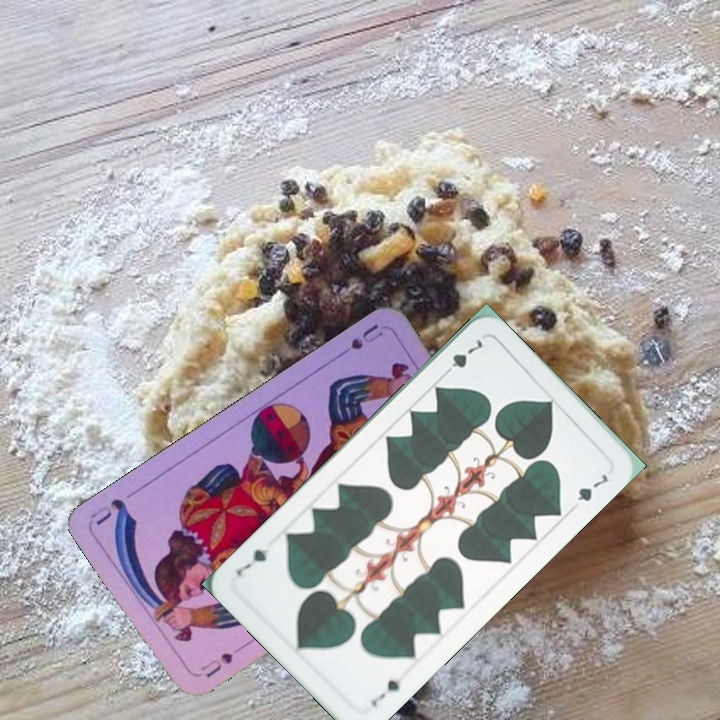G7: (438, 335, 485, 379), (367, 675, 404, 710)
SU: (331, 319, 386, 362), (193, 641, 246, 680)
